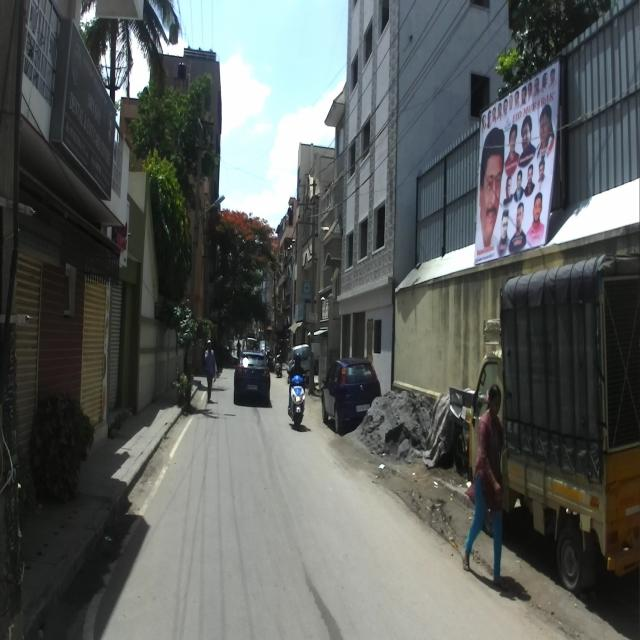Car_Fiat: (320, 356, 382, 436)
Car_Maruti-Suzuki: (233, 349, 271, 408)
scooter: (287, 363, 308, 428)
truck: (467, 249, 639, 595)
